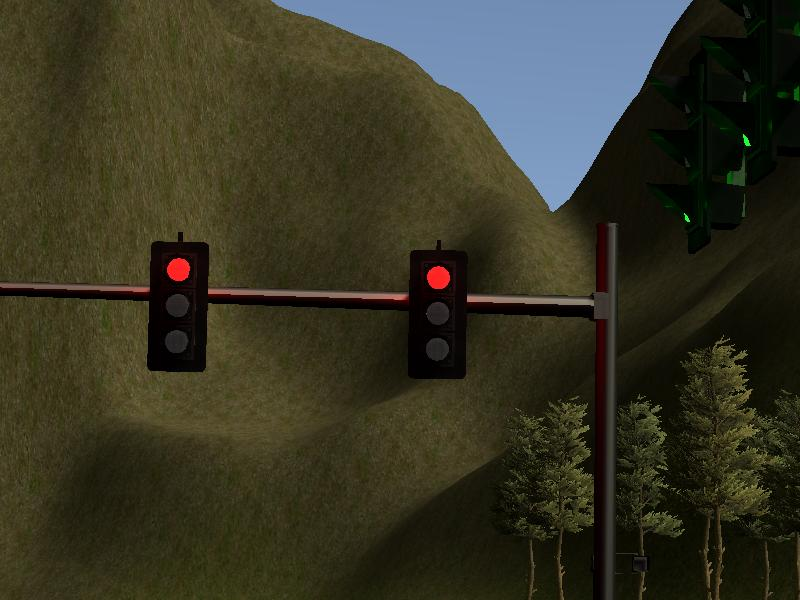Red: (150, 241, 206, 371), (411, 250, 465, 380)
